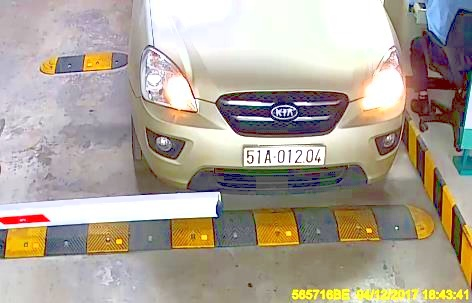plate: (242, 142, 329, 172)
